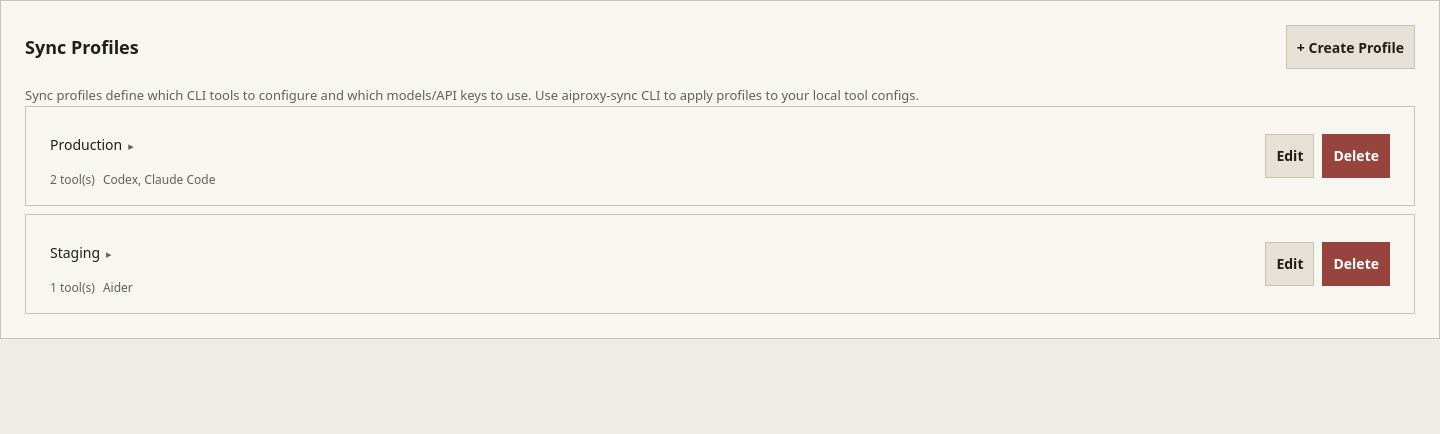
Test: SyncProfilesSection — sync status › shows never-synced when no host has reported the tool
Click the button "Staging▸" at [75, 253], box [50,231,1249,275]
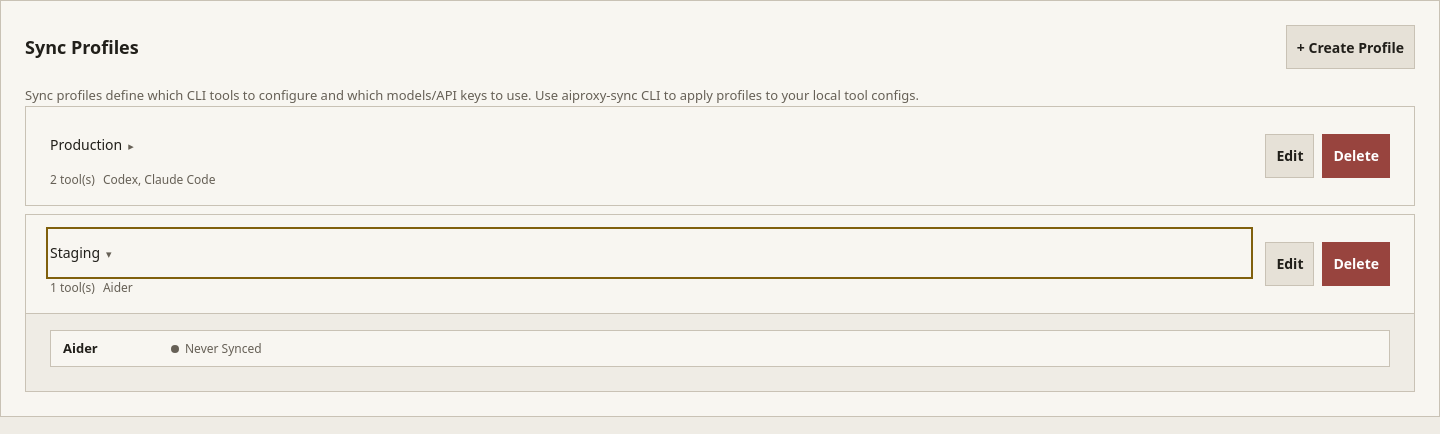
Check: the text "Never Synced" is shown, box [185,340,262,358]
